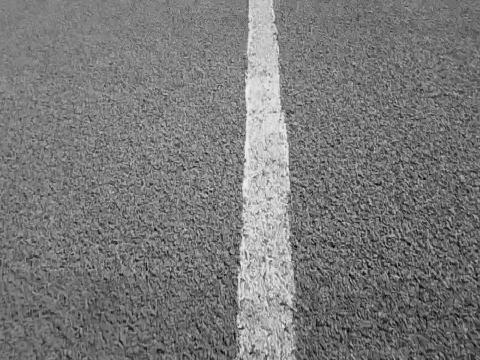Lines: (236, 0, 298, 360)
